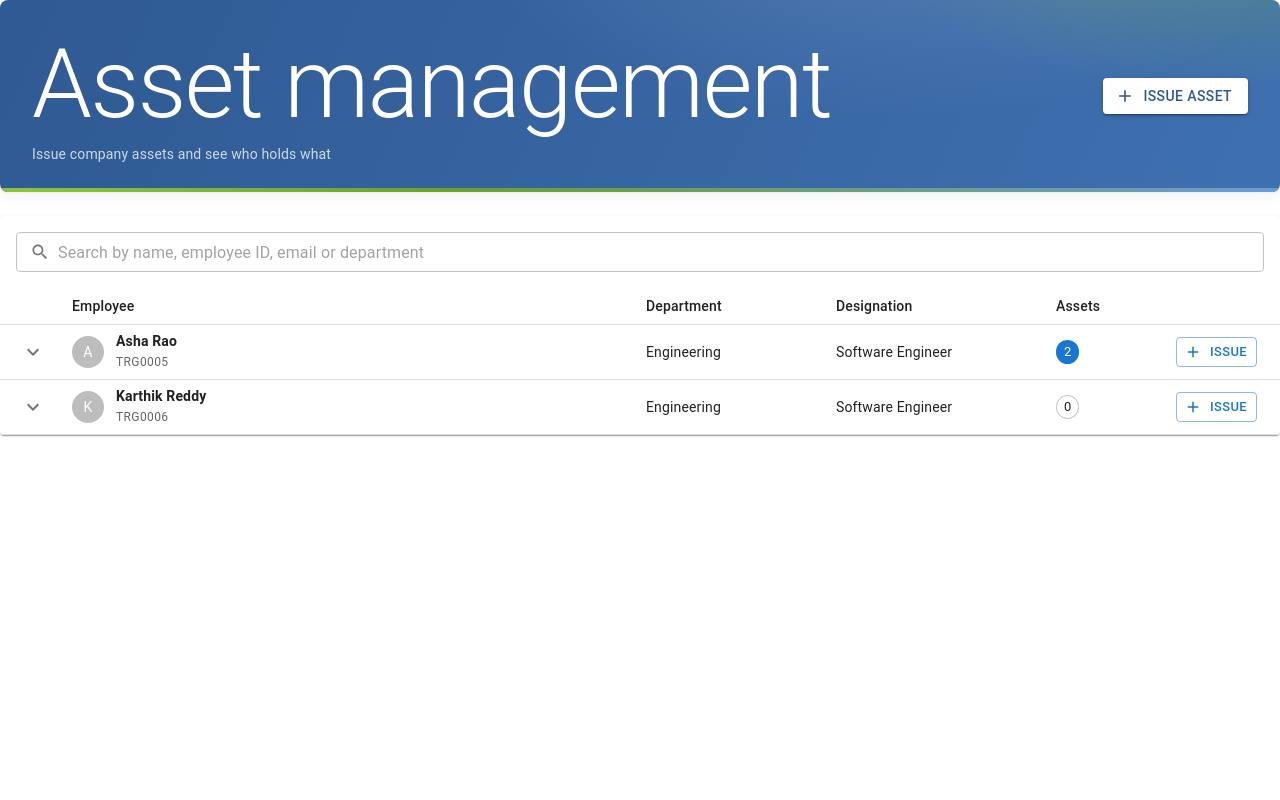
Test: AssetManagementPage › issues to someone straight from their row, without opening it
What coordinates should you click on to do the following:
click the button with aria-label "Issue an asset to Karthik Reddy"
I would click on:
 (1217, 407)
Its box is left=1176, top=392, right=1257, bottom=422.
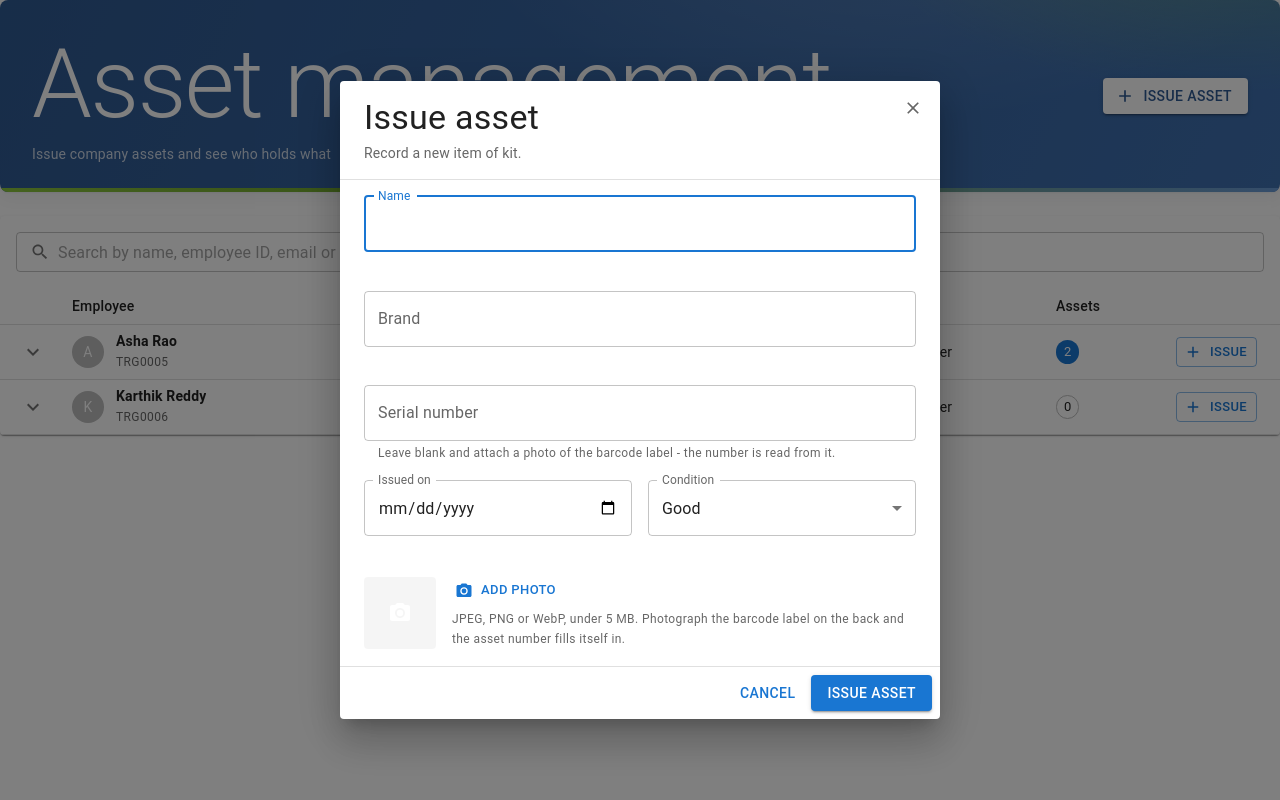
Result: the dialog is shown at left=340, top=81, right=940, bottom=719
